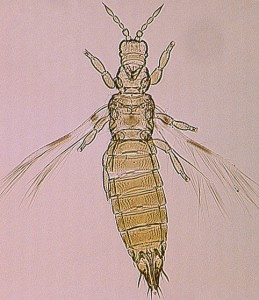Thripidae: (1, 2, 259, 299)
